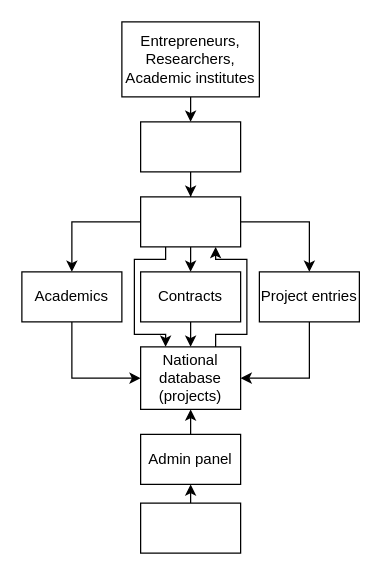
Image size: 381x575. Some labels were removed from this diagram. The shapes that lost their labels are listed below. From the top down, each one's centre as x and y in pixels, then its label:
point 190,146: Chatbot
point 190,221: SQL Queries
point 190,527: IXN forms
